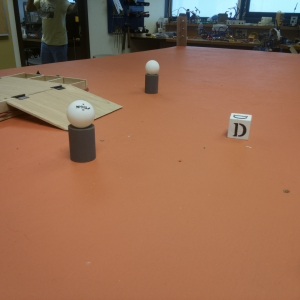blockD: (228, 112, 252, 141)
obstacle: (10, 89, 120, 129), (66, 100, 99, 164), (144, 59, 160, 93), (176, 15, 187, 47)
